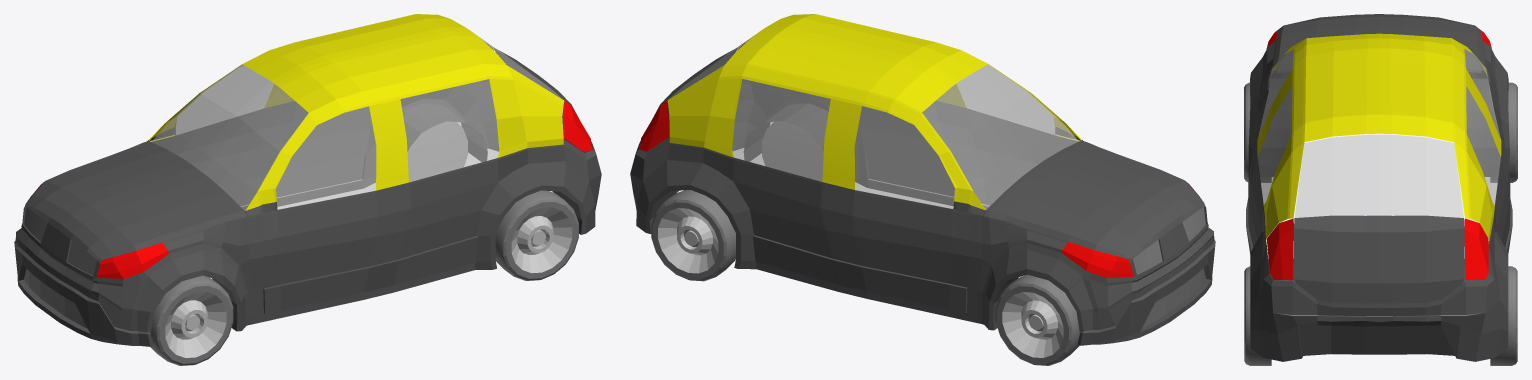
File: taxi3.fbx
3 views of the same model, side by side, from view 1: azimuth 30°, elevation 25°; view 2: azimuth 150°, elevation 25°; view 3: azimuth 270°, elevation 25° (orthographic). The views are drawn at different scales.
Visible parts, largest first — view 1: Carcasa, Vidrio, Wheel_Bc_R, Wheel_Ft_R, Wheel_Bc_L, Luces; view 2: Carcasa, Vidrio, Wheel_Bc_L, Wheel_Ft_L, Wheel_Bc_R, Luces; view 3: Carcasa, Vidrio, Luces, Wheel_Bc_L, Wheel_Ft_L, Wheel_Bc_R, Wheel_Ft_R.
Boxes of the visible parts, x1,y1,x2,y2 form: Carcasa: (14, 14, 601, 346); Vidrio: (151, 35, 562, 210); Wheel_Bc_R: (495, 190, 578, 280); Wheel_Ft_R: (150, 275, 233, 365); Wheel_Bc_L: (408, 121, 467, 182); Luces: (33, 44, 593, 278); Carcasa: (630, 14, 1215, 345); Vidrio: (669, 35, 1078, 209); Wheel_Bc_L: (651, 190, 735, 281); Wheel_Ft_L: (995, 274, 1079, 365); Wheel_Bc_R: (762, 121, 823, 181); Luces: (639, 44, 1195, 278); Carcasa: (1246, 14, 1512, 361); Vidrio: (1257, 49, 1500, 217); Luces: (1266, 30, 1491, 280); Wheel_Bc_L: (1490, 266, 1517, 365); Wheel_Ft_L: (1490, 82, 1517, 182); Wheel_Bc_R: (1244, 266, 1271, 365); Wheel_Ft_R: (1244, 82, 1271, 182).
Bounding box in the file's own units: 387 × 154 × 164.
